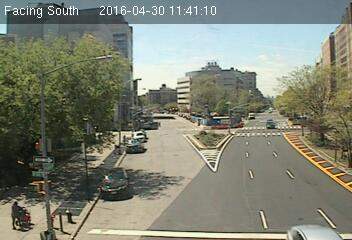pos: (2, 200, 26, 232), (95, 132, 103, 143)
